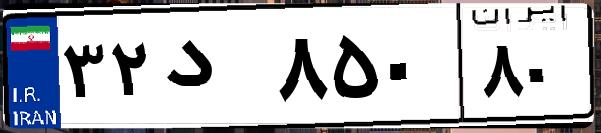0: (385, 28, 445, 110), (525, 38, 570, 115)
2: (110, 28, 158, 98)
3: (57, 26, 110, 100)
5: (330, 28, 385, 110)
8: (270, 28, 330, 110), (475, 38, 525, 113)
د: (158, 20, 270, 120)
